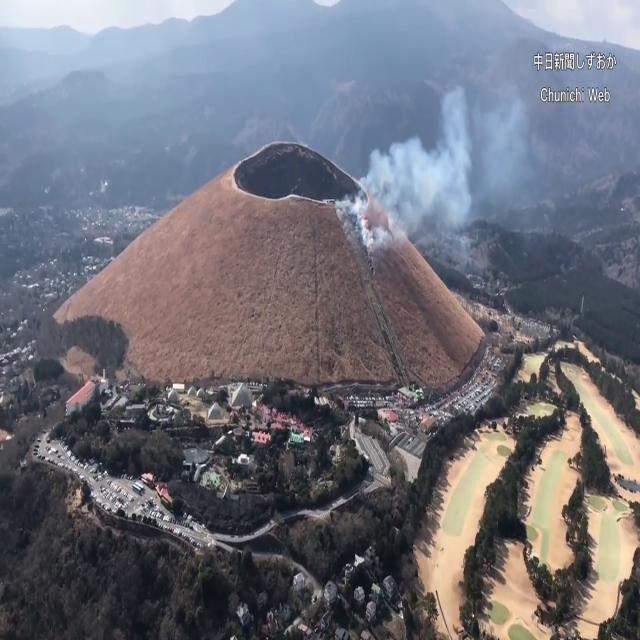Smoke: (343, 75, 545, 258)
